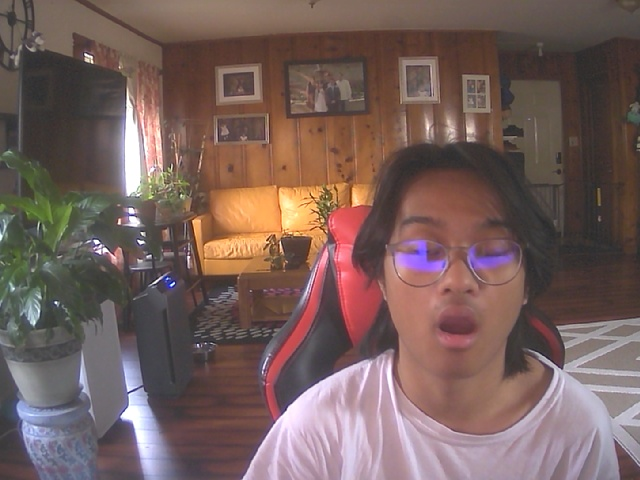fear: (369, 155, 542, 380)
